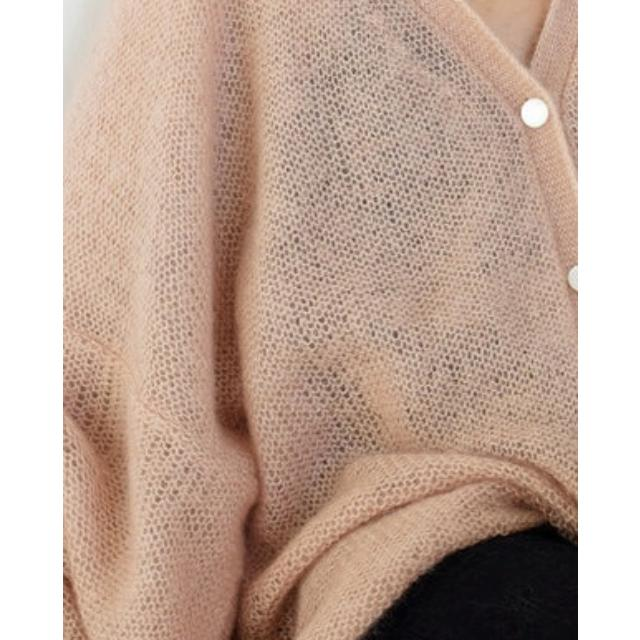wool: (62, 0, 578, 392)
